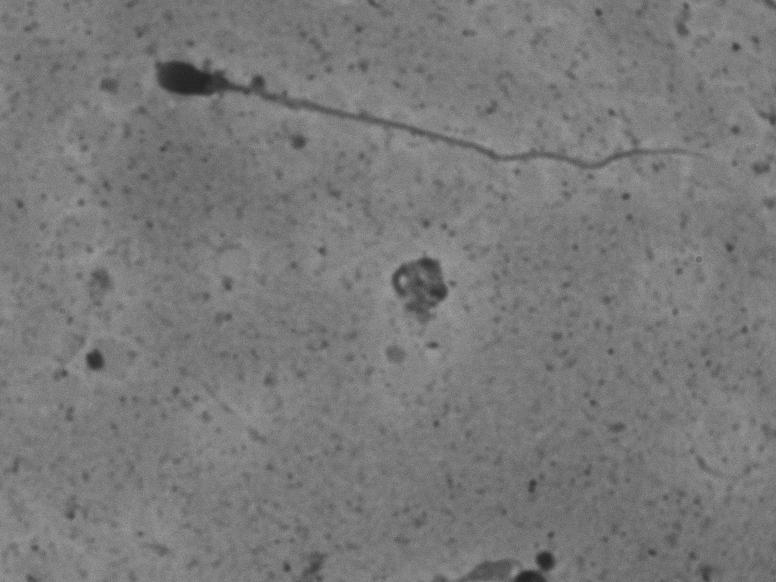Abnormal: (111, 52, 750, 182)
